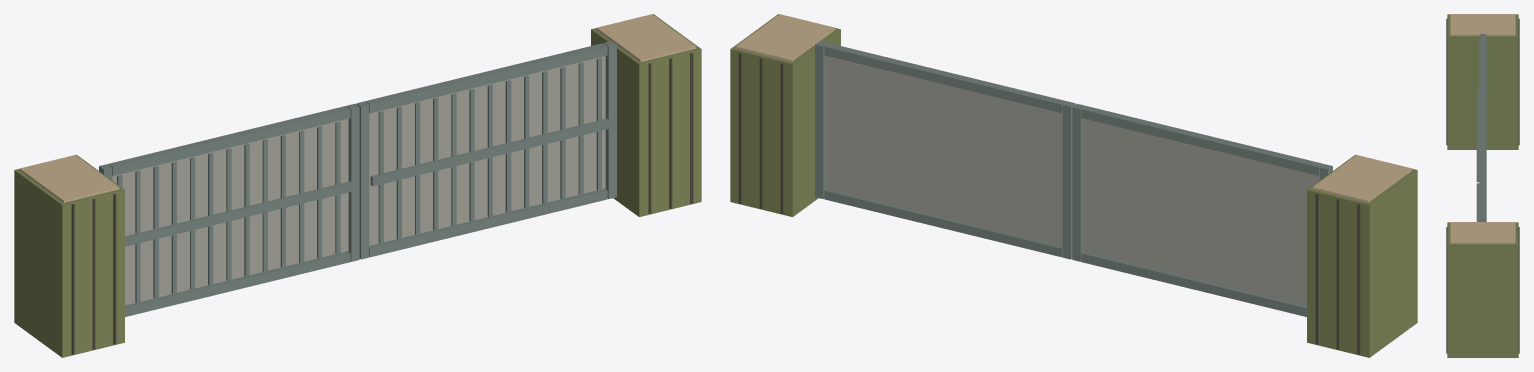
The model's file is SM_PuertaViaDoble_v1_ChapaOndulada_e0_Sano_LOD0.fbx.
3 renders of one model, left to right at view 1: azimuth 30°, elevation 25°; view 2: azimuth 150°, elevation 25°; view 3: azimuth 270°, elevation 25°, orthographic. The views are drawn at different scales.
Visible parts, largest first — view 1: Hoja_E, Hoja_O, SM_puerta_via_doble_v4_LOD0; view 2: Hoja_E, Hoja_O, SM_puerta_via_doble_v4_LOD0; view 3: SM_puerta_via_doble_v4_LOD0, Hoja_O, Hoja_E.
Part boxes in pixels (left/top/right/bottom): Hoja_E: left=356, top=41, right=616, bottom=259; Hoja_O: left=99, top=103, right=359, bottom=316; SM_puerta_via_doble_v4_LOD0: left=14, top=14, right=701, bottom=357; Hoja_E: left=815, top=41, right=1075, bottom=259; Hoja_O: left=1072, top=103, right=1332, bottom=316; SM_puerta_via_doble_v4_LOD0: left=730, top=14, right=1417, bottom=357; SM_puerta_via_doble_v4_LOD0: left=1446, top=14, right=1519, bottom=357; Hoja_O: left=1476, top=34, right=1486, bottom=182; Hoja_E: left=1476, top=126, right=1486, bottom=221.
Size of the model in its own units: 9.2 by 2.16 by 1.24.
